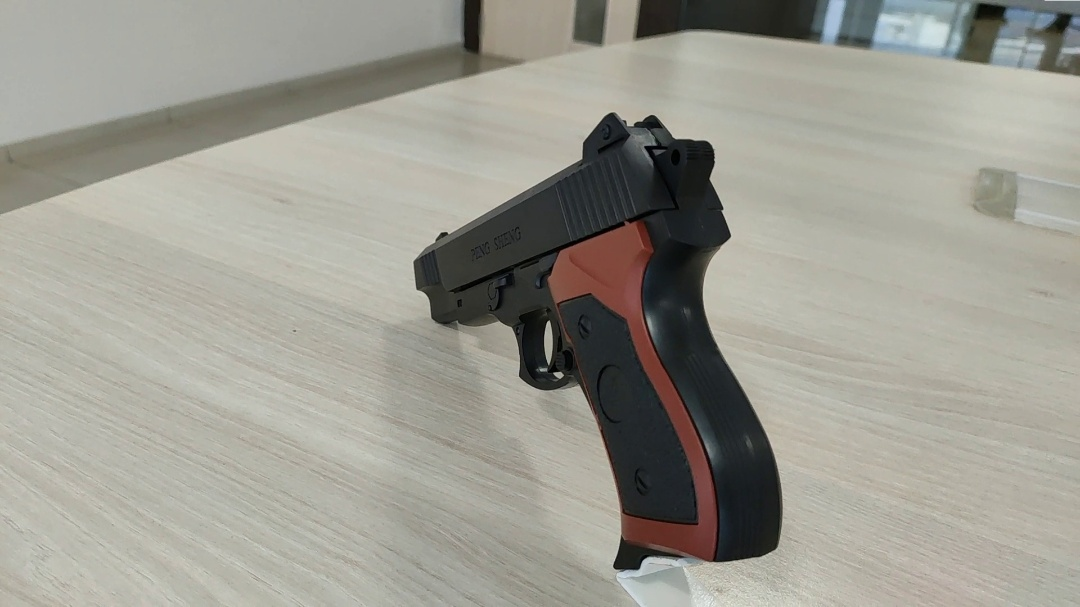gun: (403, 255, 487, 351)
